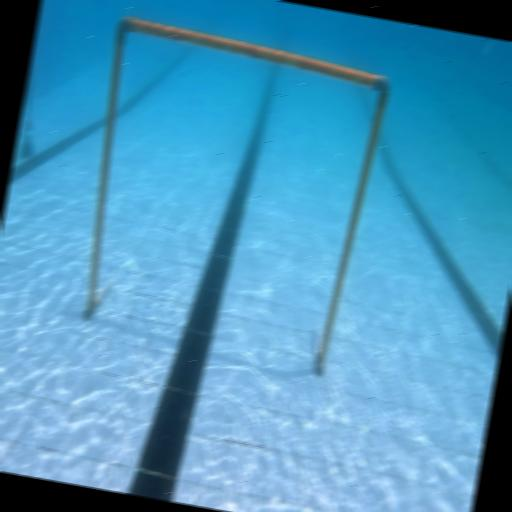gate: (62, 14, 394, 380)
